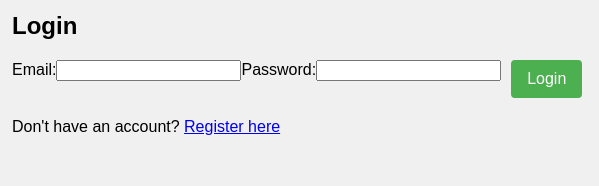
Login component › handles login failure
The width and height of the screenshot is (599, 186).
Type "test@example.com" into the field labelled "Email:" at (149, 70), box [56, 60, 242, 81]
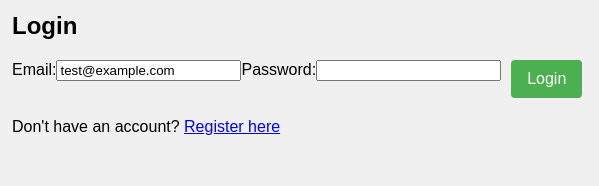
Type "wrongpassword" into the password field labelled "Password:" at (409, 70), box [316, 60, 501, 81]
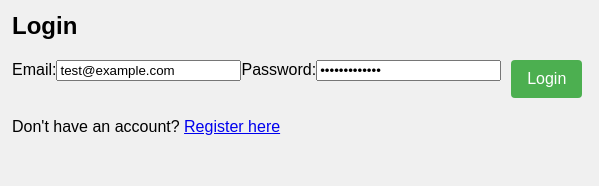
Click the button "Login" at (547, 79), box [511, 60, 582, 98]
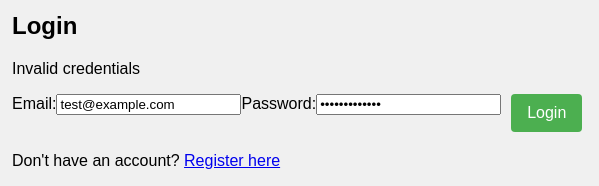
Result: the text "Invalid credentials" is shown at [12, 60, 140, 77]
